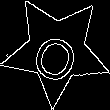O_N: (28, 19, 85, 82)
